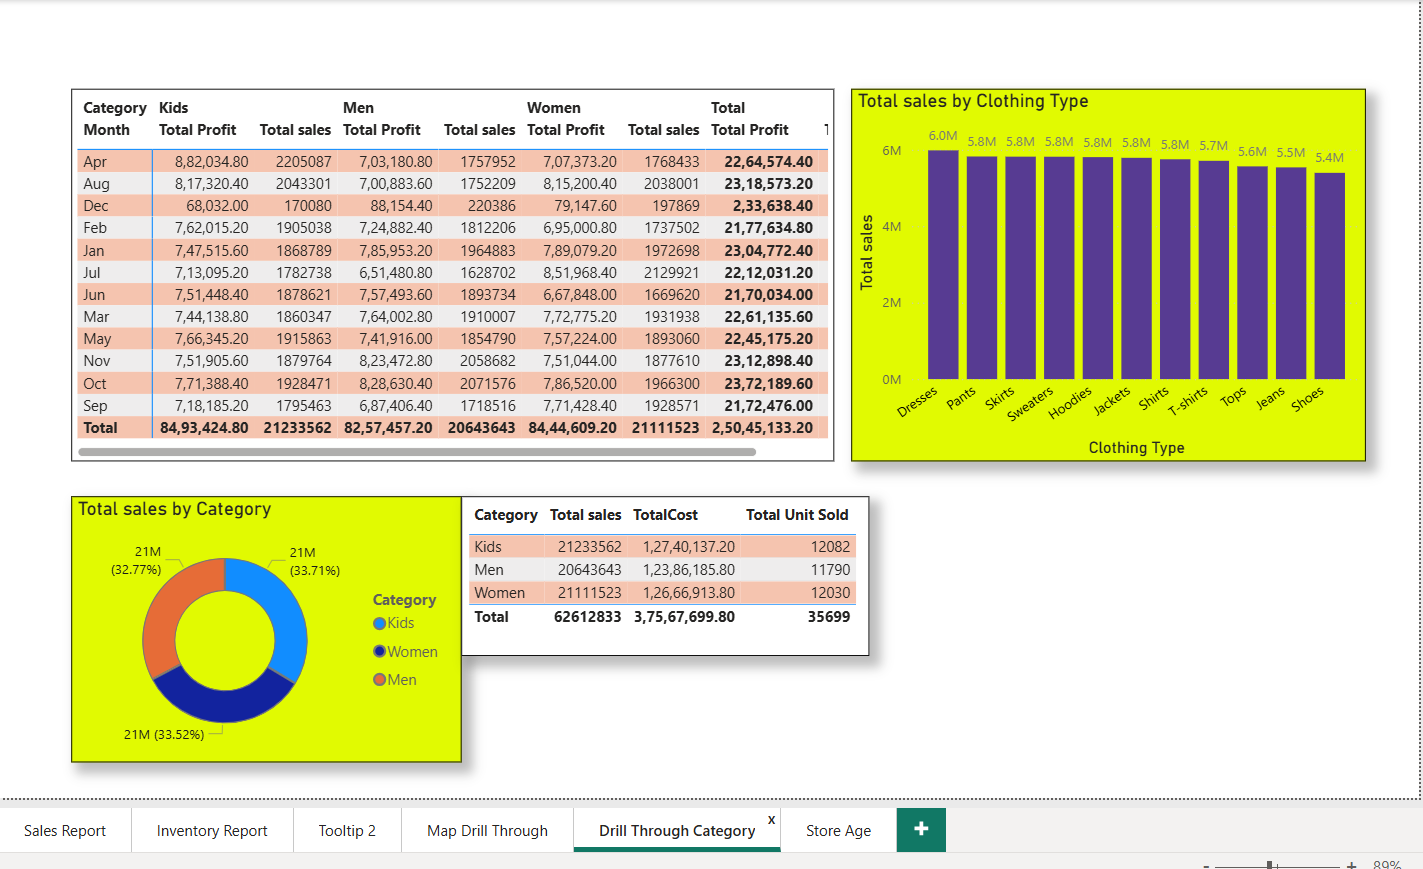

This screenshot's page, from the dashboard's own definition file:
{"tool":"powerbi","page":{"name":"Drill Through Category","canvas":[1280,720],"ordinal":4},"visuals":[{"type":"pivotTable","fields":{"Columns":["Sheet1.Category"],"Values":["New.Total Profit","New.Total sales"],"Rows":["DateTable.Month "]},"box":[64,80,688,336],"z":0},{"type":"columnChart","fields":{"Category":["Sheet1.Clothing Type"],"Y":["New.Total sales"]},"box":[768,80,464,336],"z":1000},{"type":"donutChart","fields":{"Category":["Sheet1.Category"],"Y":["New.Total sales"]},"box":[64,448,352,240],"z":2000},{"type":"tableEx","fields":{"Values":["Sheet1.Category","New.Total sales","New.TotalCost","MeasureToggle.Total Unit Sold"]},"box":[416,448,368,144],"z":3000}]}

Visuals, with their boxes on the page's 1280x720 design canvas (x1, y1, x2, y2). These are canvas units, not pixel positions in the 1423x869 screenshot, which may show the page scaled, cropped or inside an application window:
pivotTable - Sheet1.Category x New.Total Profit: box=[64, 80, 752, 416]
columnChart - Sheet1.Clothing Type x New.Total sales: box=[768, 80, 1232, 416]
donutChart - Sheet1.Category x New.Total sales: box=[64, 448, 416, 688]
tableEx - Sheet1.Category x New.Total sales: box=[416, 448, 784, 592]
